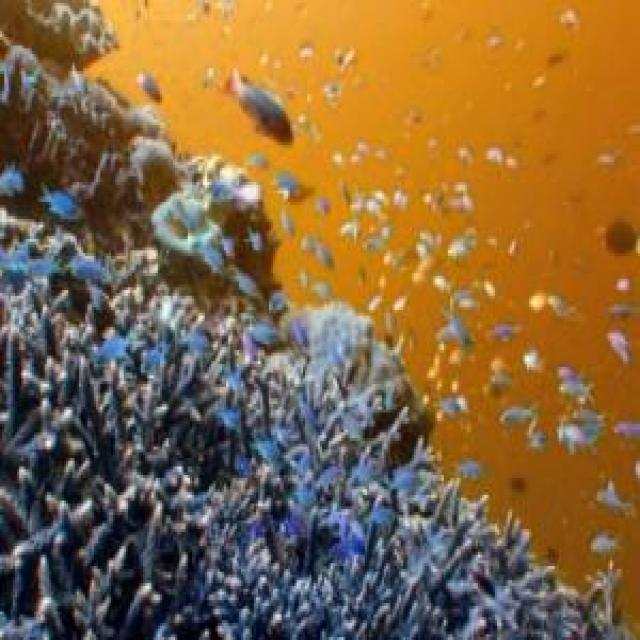Healthy: (1, 35, 590, 640)
